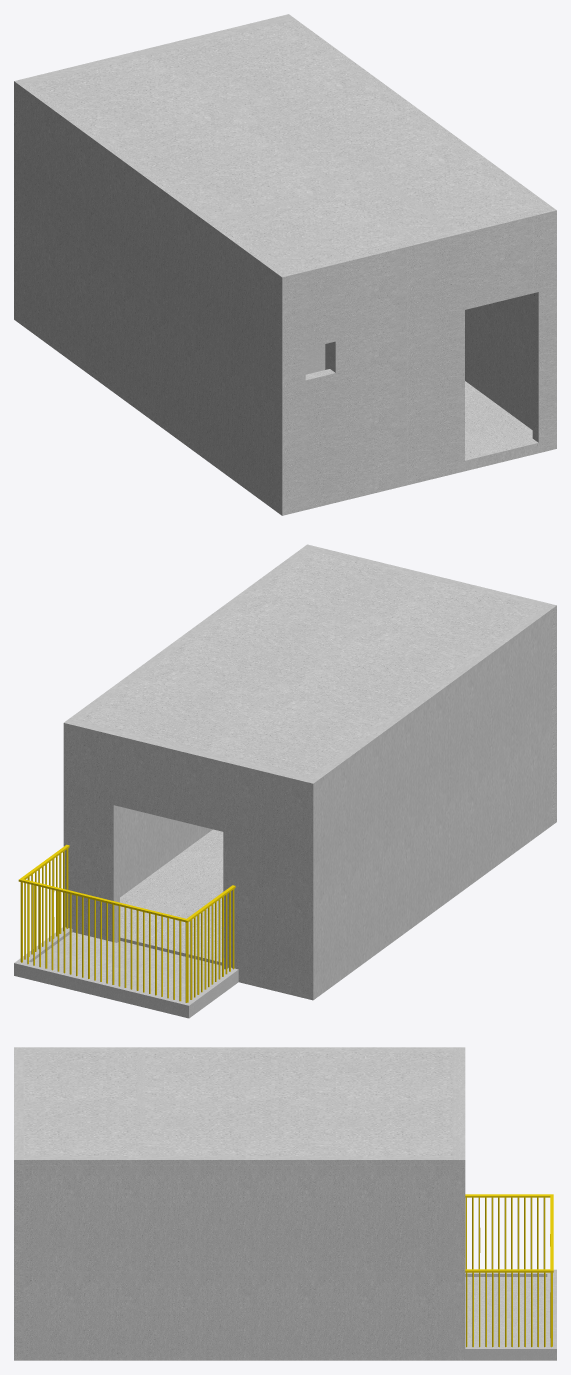
Rendered from oneBR-2-only.gltf.
3 renders of one model, top to bottom at view 1: azimuth 30°, elevation 25°; view 2: azimuth 150°, elevation 25°; view 3: azimuth 270°, elevation 25°, orthographic. The views are drawn at different scales.
Bounding box in the file's own units: 4.1 × 3.4 × 8.34.
2 materials, 1 textured.
